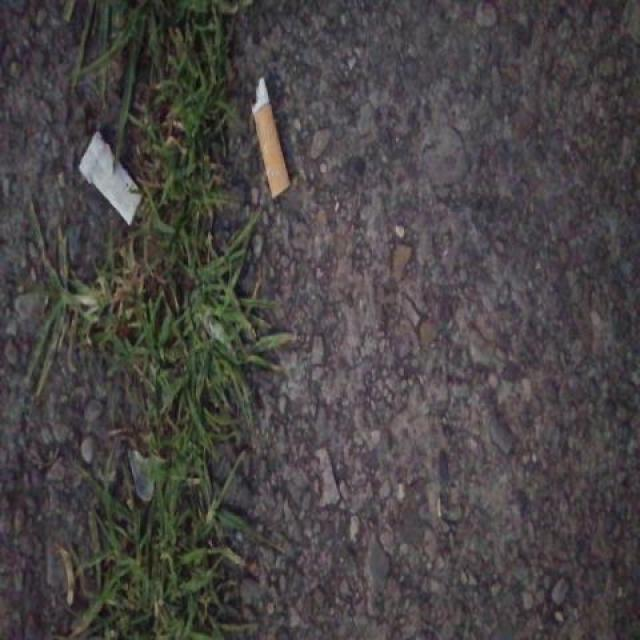non-organic waste: (75, 126, 149, 231), (245, 75, 295, 204)
